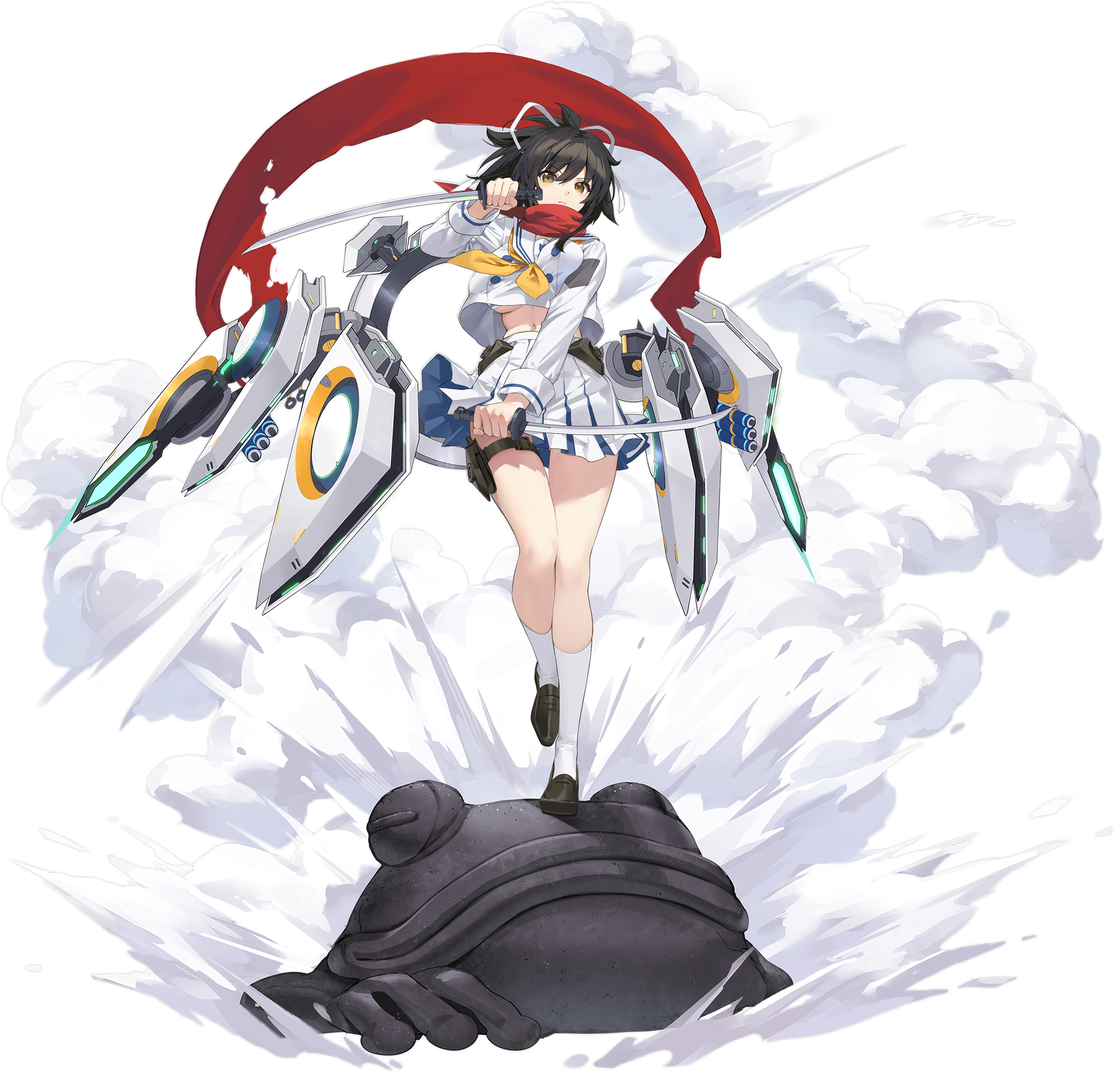person: (345, 90, 776, 852)
